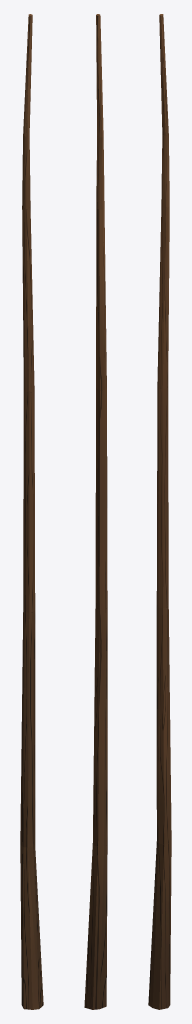
The model's file is Small-Branch-1.fbx.
3 renders of one model, left to right at view 1: azimuth 90°, elevation 25°; view 2: azimuth 210°, elevation 25°; view 3: azimuth 270°, elevation 25°, orthographic.
Parts seen in each view (by area): view 1: Small-Branch-1; view 2: Small-Branch-1; view 3: Small-Branch-1.
Boxes of the visible parts, x1,y1,x2,y2 form: Small-Branch-1: (20, 14, 43, 1009); Small-Branch-1: (84, 14, 107, 1009); Small-Branch-1: (148, 14, 171, 1009).
Bounding box in the file's own units: 0.2483 × 11.01 × 0.2348.
